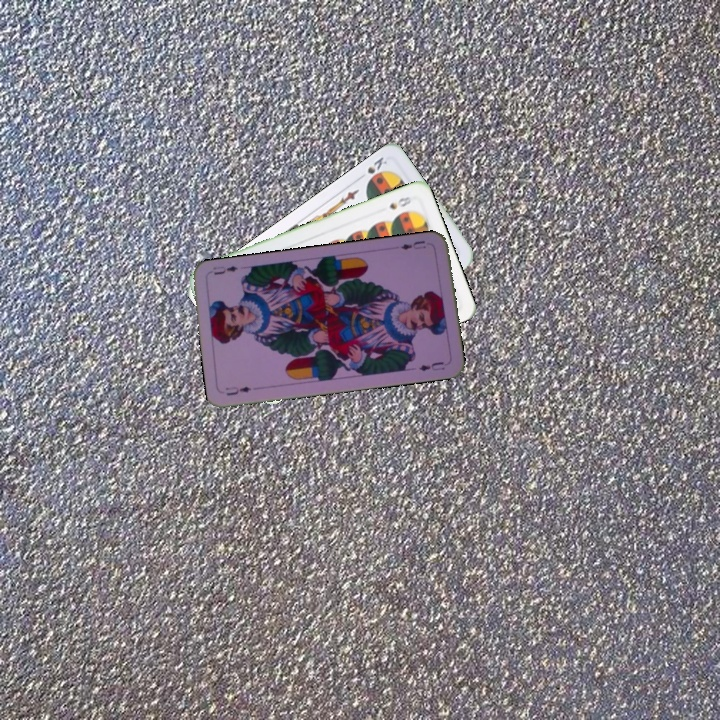EU: (222, 382, 254, 398), (397, 237, 429, 252)
S8: (385, 192, 416, 212)
SK: (363, 153, 390, 176)
